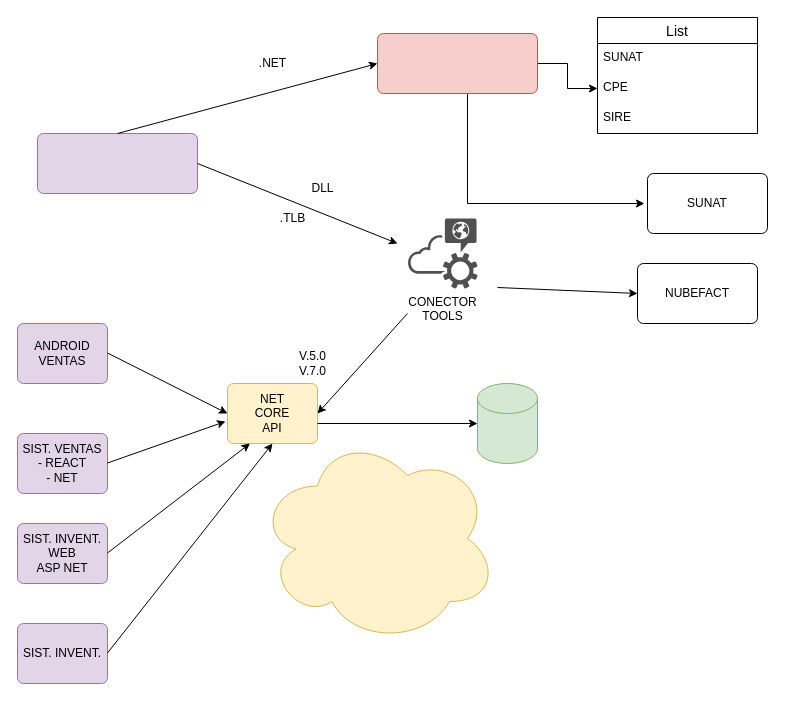
This 785x701 diagram has some shape labels left out. Each missing label, with the centre of its shape:
SQL: pixel 507 423
VISUAL BASIC: pixel 117 163
VISUAL ESTUDIO 2019: pixel 457 63
VS 2022 O SUPERIOR - NUBEFACT - SUNAT - CPE (FALTA): pixel 377 538
